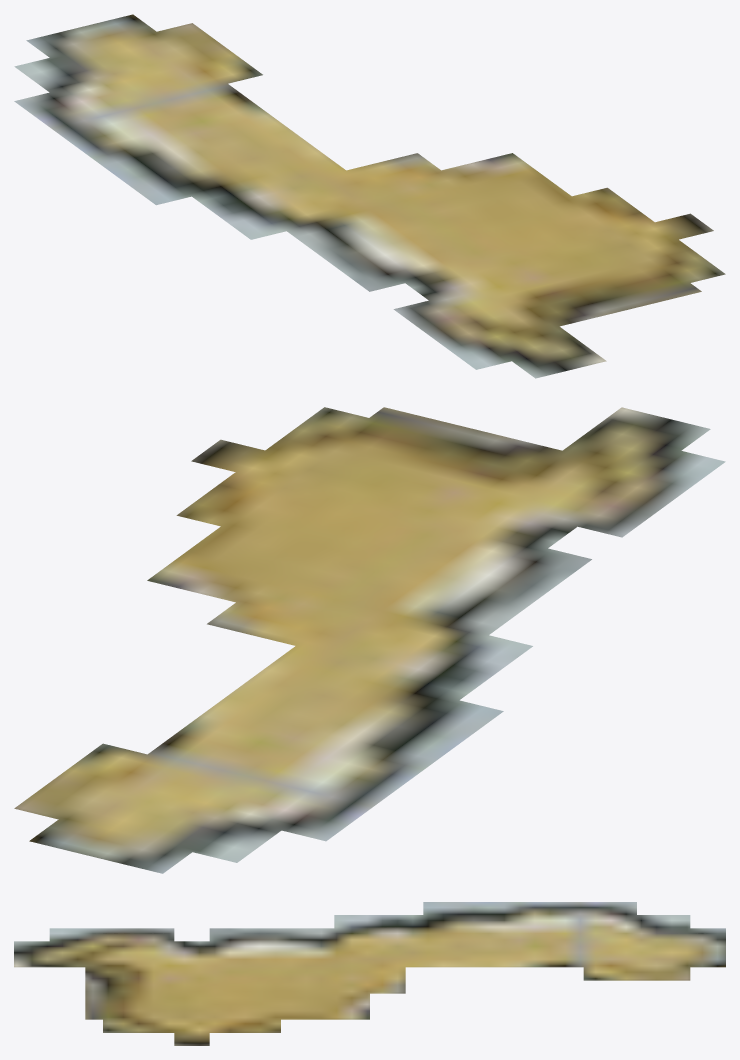
The model's file is rio-de-oro.gltf.
3 views of the same model, one above another, from view 1: azimuth 30°, elevation 25°; view 2: azimuth 150°, elevation 25°; view 3: azimuth 270°, elevation 25° (orthographic). The views are drawn at different scales.
Visible parts, largest first — view 1: Plane; view 2: Plane; view 3: Plane.
Part boxes in pixels (left/top/right/bottom): Plane: left=14, top=14, right=725, bottom=378; Plane: left=14, top=407, right=725, bottom=873; Plane: left=14, top=902, right=725, bottom=1045.
Bounding box in the file's own units: 0.1086 × 0 × 0.2272.
Materials: 1 (1 with a texture image).
